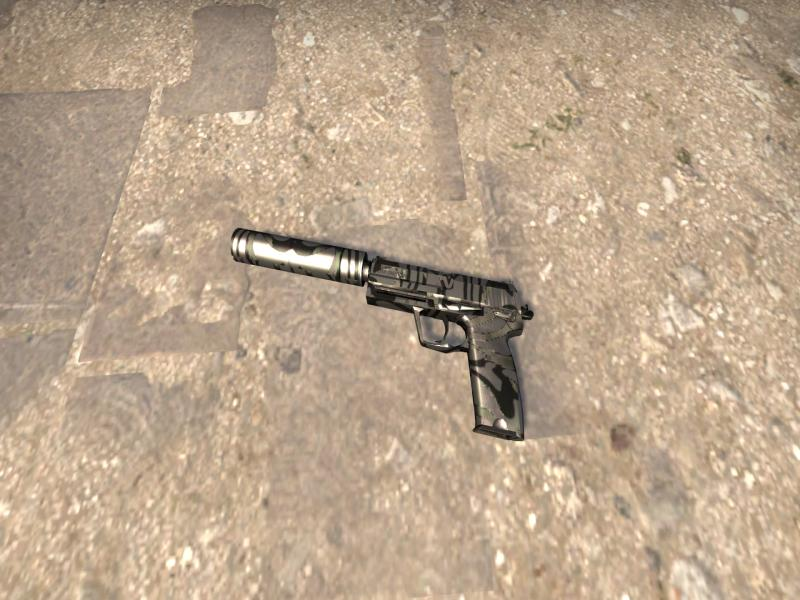USP: (230, 227, 533, 440)
